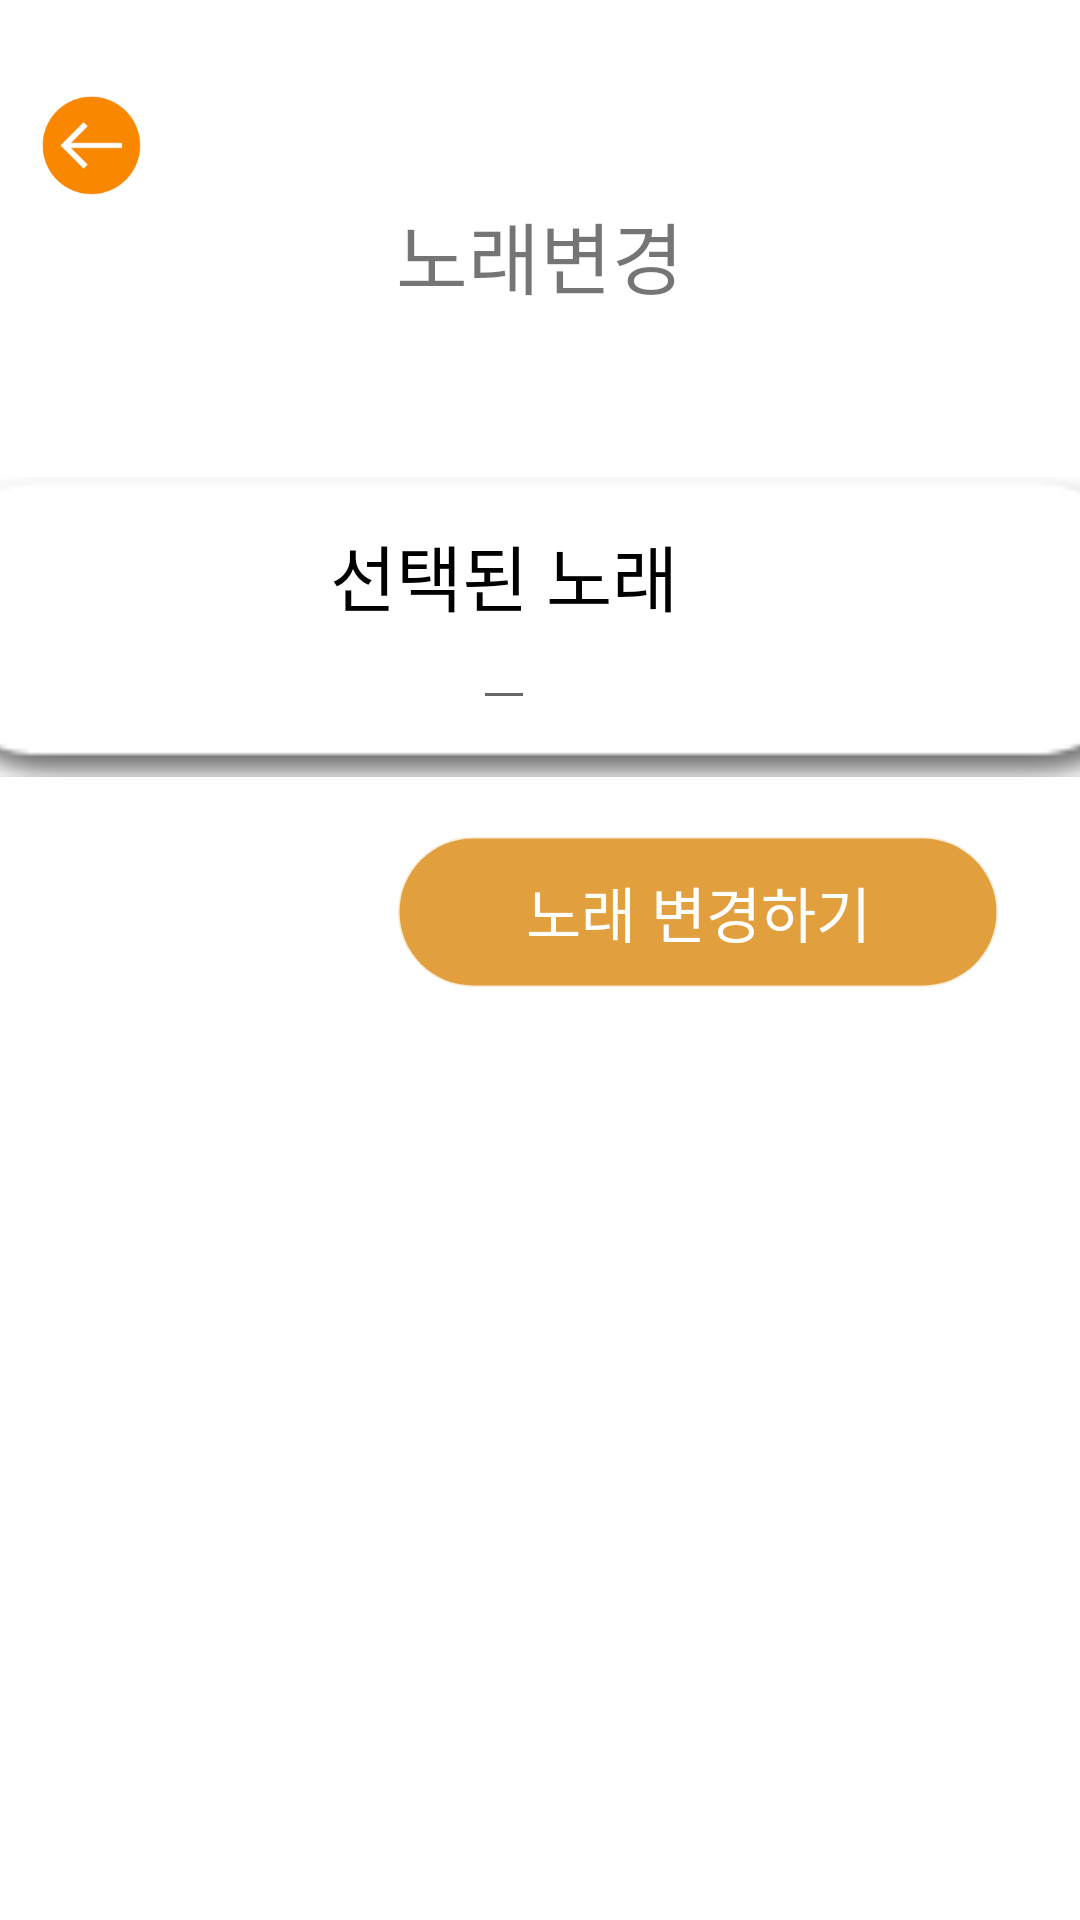

Named icons in this screenshot (1080 × 1920) and their bounding boxes, (x1, y1, x2, y2):
goback: (42, 96, 141, 195)
